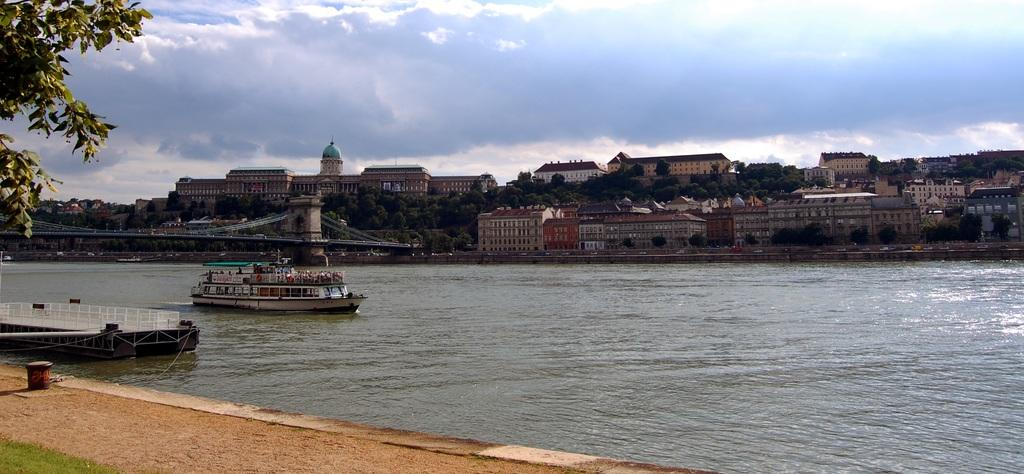PassengerShip: (188, 256, 372, 318)
